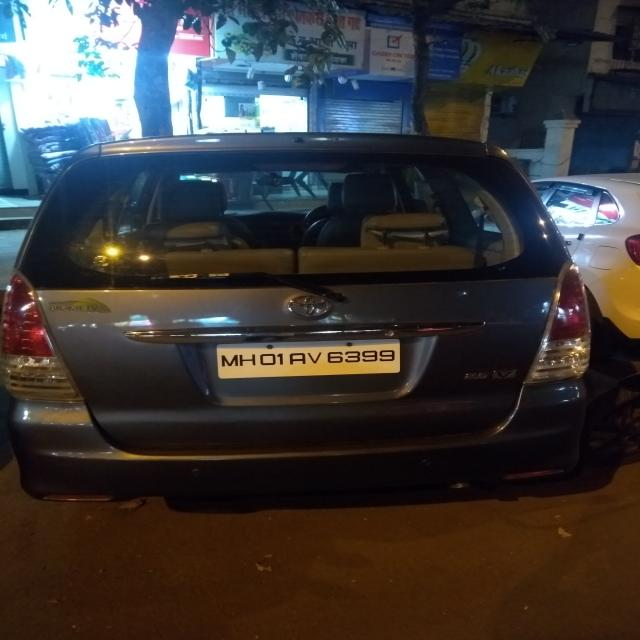Number-Plate: (219, 341, 401, 376)
